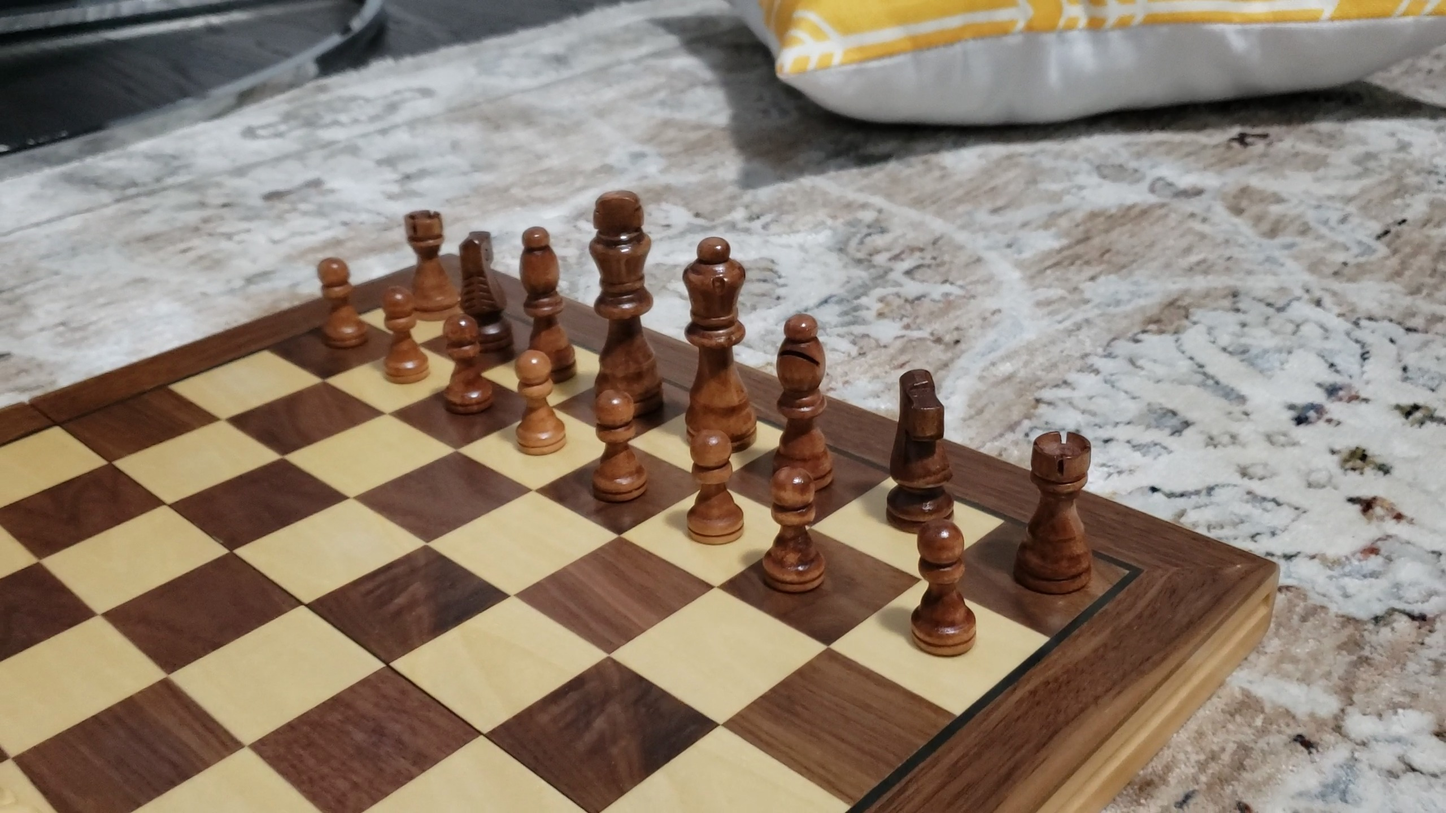black-bishop: (774, 309, 834, 496), (515, 222, 577, 381)
black-king: (586, 185, 665, 429)
black-knight: (886, 366, 951, 528), (458, 229, 511, 355)
black-pawn: (908, 517, 977, 657), (760, 462, 826, 596), (686, 425, 743, 546), (591, 386, 648, 504), (512, 346, 564, 457), (441, 311, 495, 415), (378, 284, 427, 385), (315, 253, 365, 350)
black-queen: (680, 230, 757, 453)
black-rook: (1011, 427, 1097, 595), (403, 207, 458, 326)
